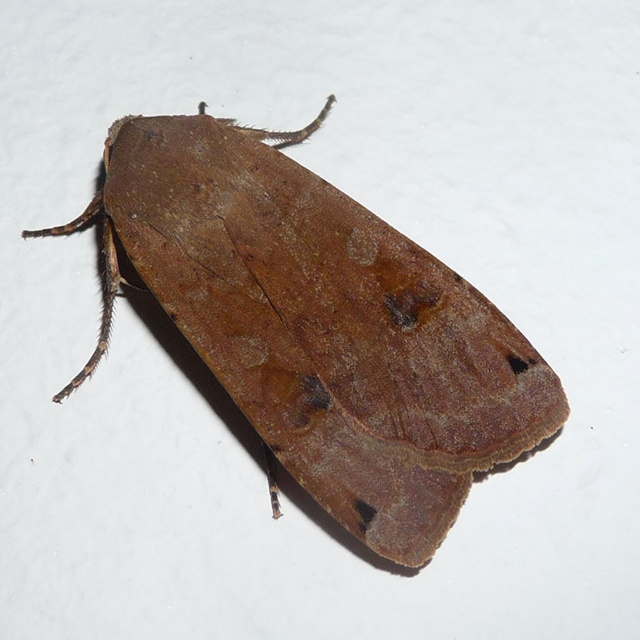Moths and butterflies: (20, 89, 572, 570)
